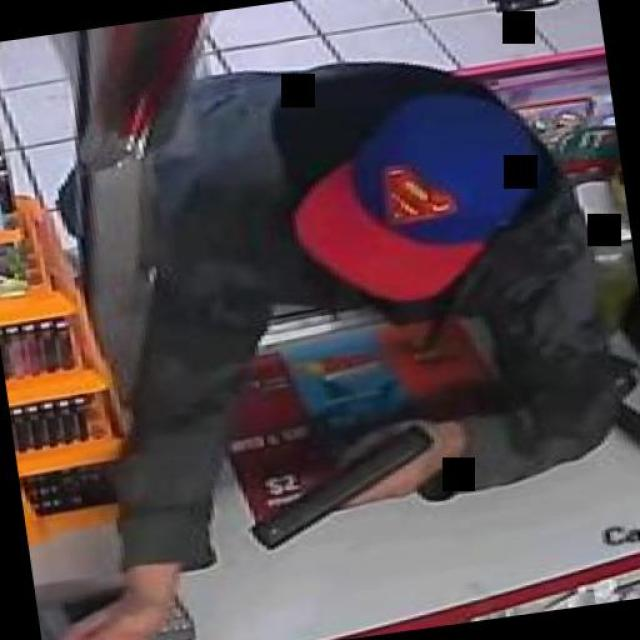gun: (232, 416, 450, 556)
